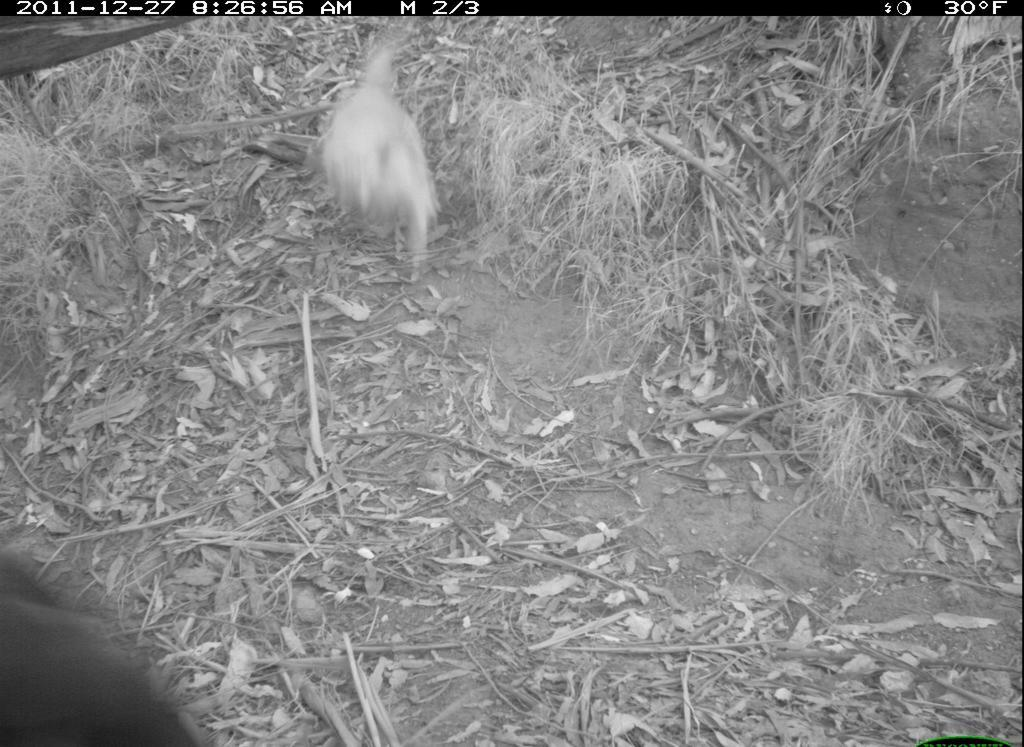dog: (1, 543, 223, 747), (322, 38, 475, 282)
